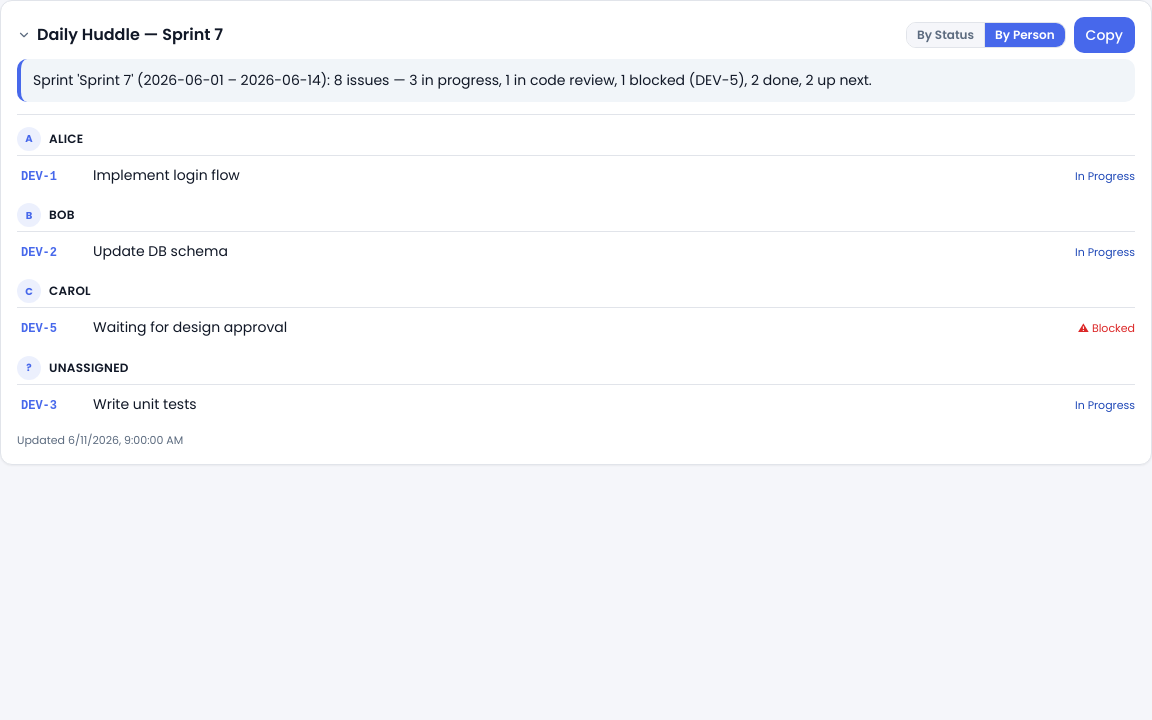
Test: HuddleDigest › shows 'Nothing in review' when codeReview is empty
Click the tab "By Status": (946,35) [907, 23, 984, 47]
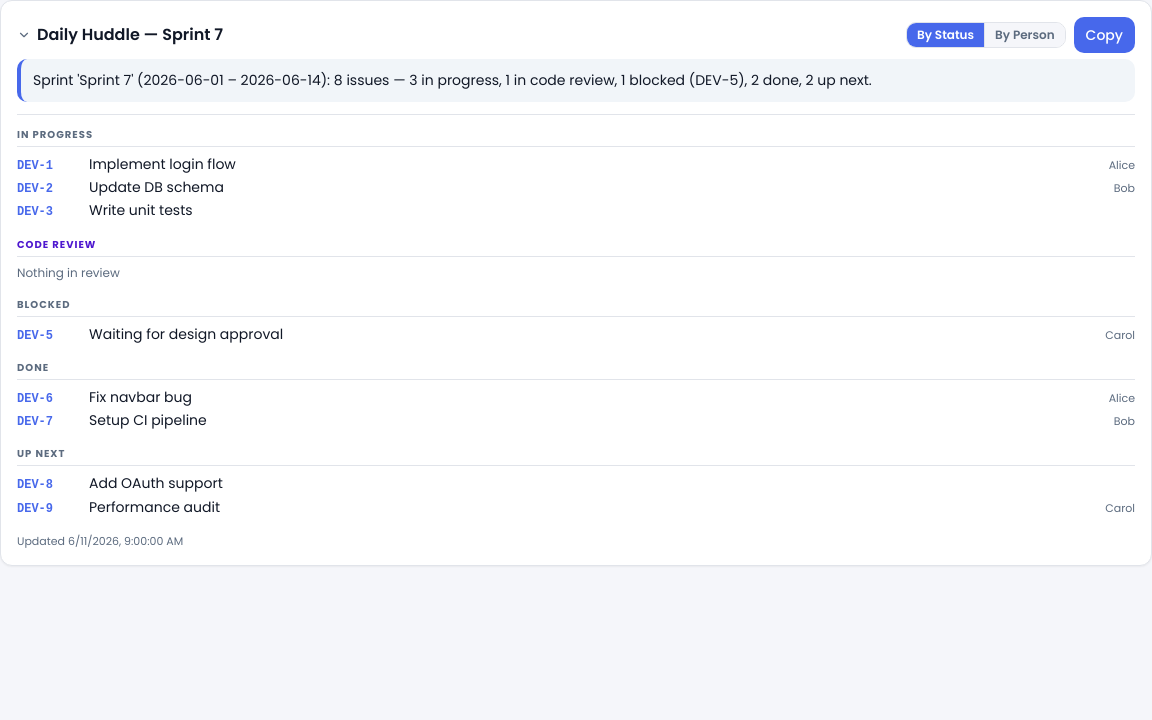
Check: the text "Nothing in review" is shown, box [17, 264, 120, 280]
